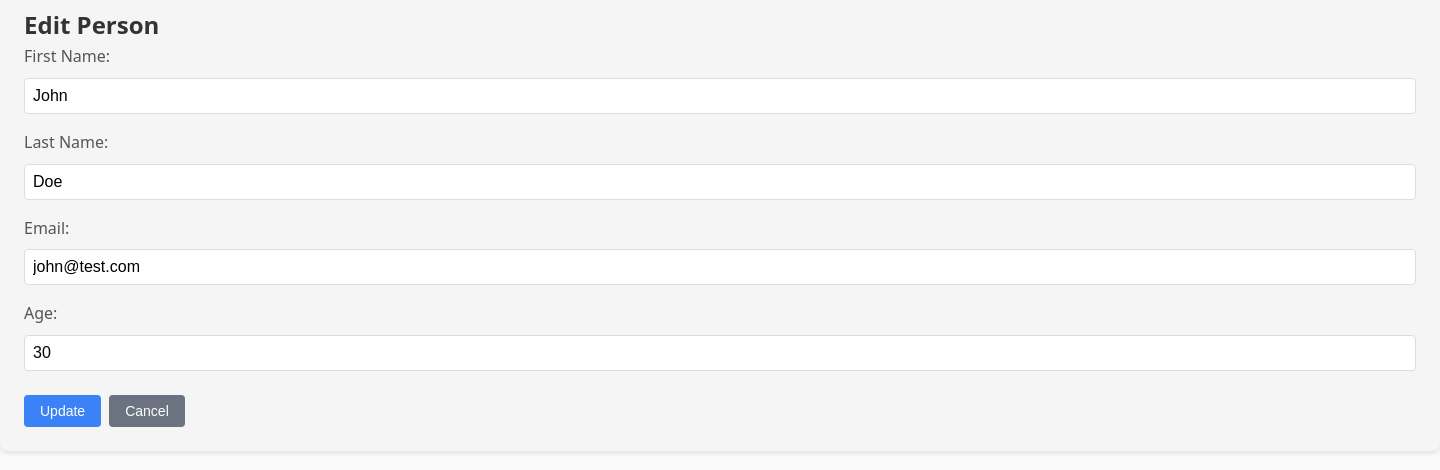
it: PersonForm › editing mode › should reset form when cancel is clicked
Type " Modified" into the field labelled "First Name:" at (720, 96), box [24,78,1416,114]
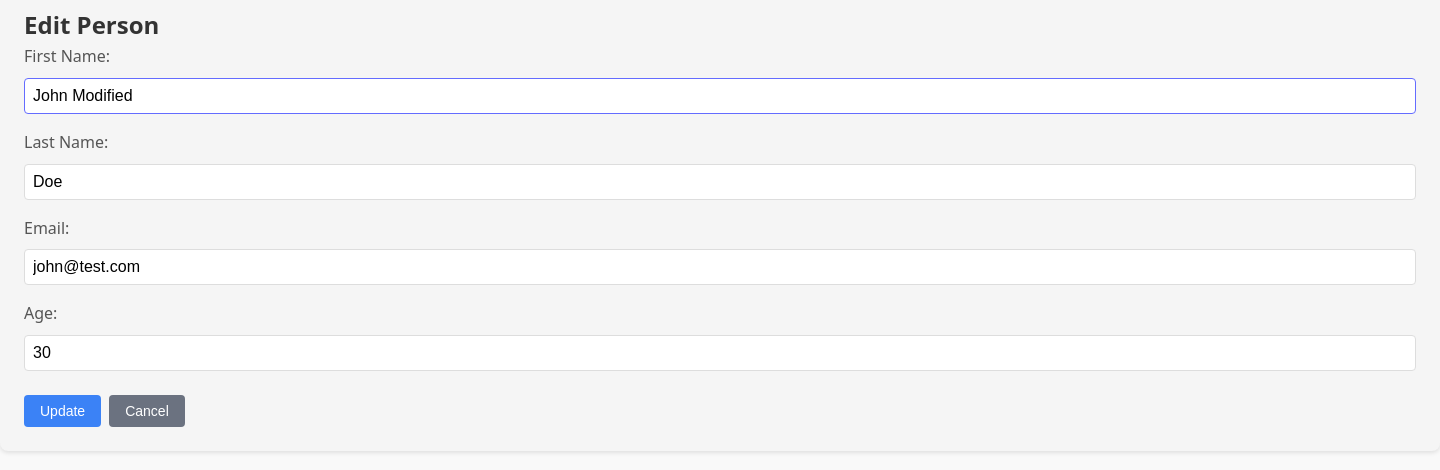
Click the button "Cancel" at (147, 411), box [109,395,185,427]
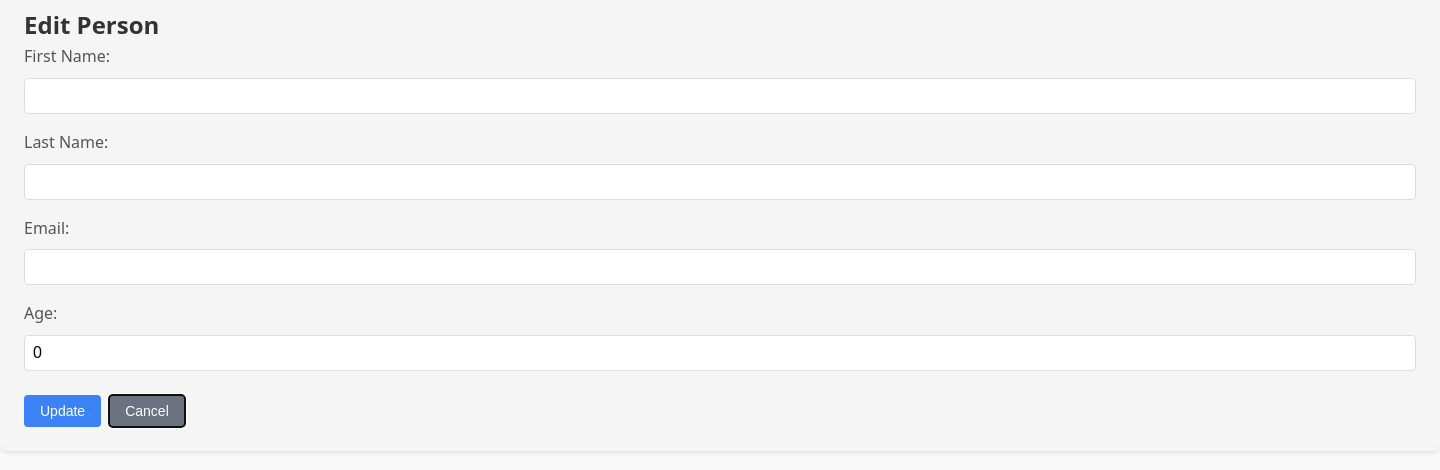
Check: the field labelled "First Name:" is empty, box [24,78,1416,114]
